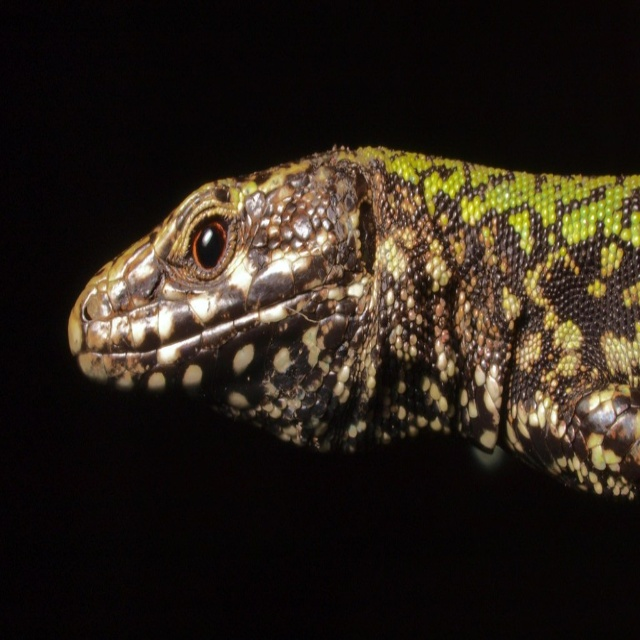Lizard: (67, 142, 640, 505)
